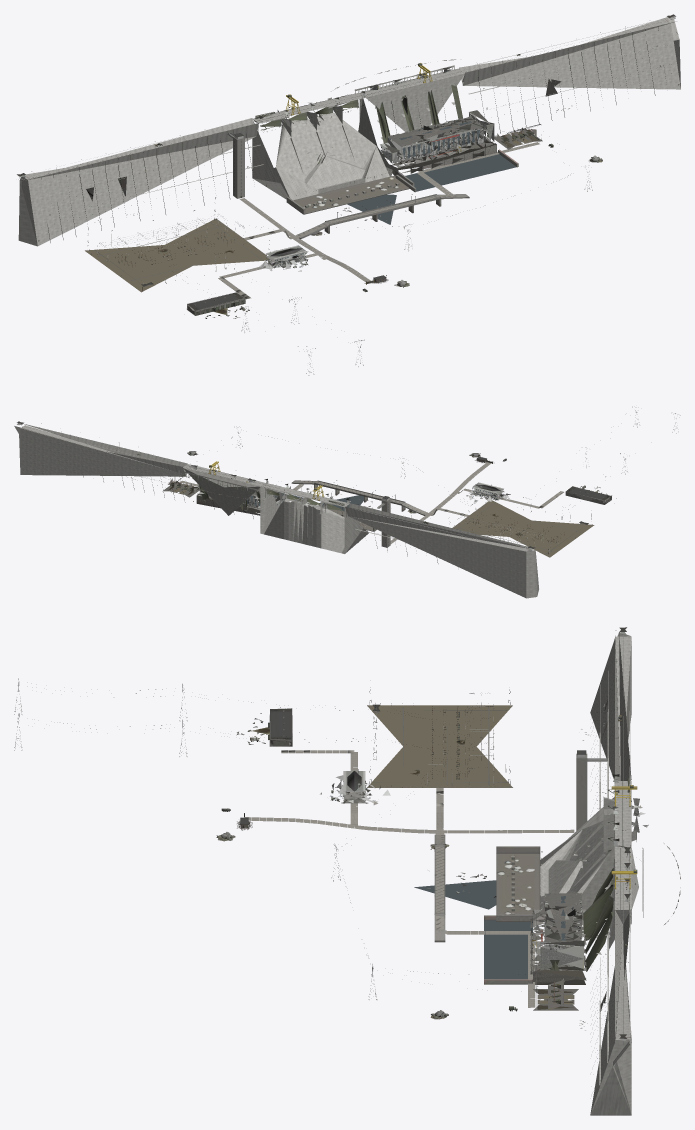
Rendered from site_dam_w_lo.glb.
The picture shows the model from 3 angles, top to bottom: view 1: azimuth 30°, elevation 25°; view 2: azimuth 150°, elevation 25°; view 3: azimuth 270°, elevation 25°; orthographic projection. The views are drawn at different scales.
Visible parts, largest first — view 1: b_dam_w|tile_dam, b_dam_e|tile_dam, b_spill_ruin|tile_dam, deco|A_A, b_spill|tile_dam, b_power_ruin|A_B, b_oru|A_A, b_intake|tile_dam, b_oru_ruin|A_B, deco|tile_conc, b_power|A_A, deco|A_glassF (+6 smaller); view 2: b_dam_w|tile_dam, b_dam_e_ruin|tile_dam, b_spill_ruin|tile_dam, b_oru|A_A, b_intake|tile_dam, b_oru_ruin|A_B, b_spill|tile_dam, deco|A_A, deco|tile_conc, b_dam_e|tile_dam, b_power_ruin|A_B, b_box|A_A (+2 smaller); view 3: deco|A_A, b_oru|A_A, b_oru_ruin|A_B, b_dam_w|tile_dam, deco|tile_conc, b_spill|tile_dam, b_power_ruin|A_B, b_dam_e_ruin|tile_dam, b_spill_ruin|tile_dam, b_dam_e|tile_dam, deco|A_glassF, b_intake|A_A (+5 smaller).
Boxes of the visible parts, x1,y1,x2,y2 form: b_dam_w|tile_dam: (18, 118, 263, 246); b_dam_e|tile_dam: (459, 17, 680, 104); b_spill_ruin|tile_dam: (254, 93, 406, 227); deco|A_A: (155, 54, 592, 375); b_spill|tile_dam: (252, 92, 392, 199); b_power_ruin|A_B: (380, 110, 496, 175); b_oru|A_A: (85, 197, 269, 292); b_intake|tile_dam: (354, 65, 464, 131); b_oru_ruin|A_B: (97, 210, 270, 286); deco|tile_conc: (218, 142, 539, 299); b_power|A_A: (384, 110, 493, 174); deco|A_glassF: (160, 76, 516, 266); b_dam_w|tile_dam: (345, 503, 538, 598); b_dam_e_ruin|tile_dam: (14, 423, 187, 480); b_spill_ruin|tile_dam: (263, 484, 366, 553); b_oru|A_A: (454, 484, 594, 557); b_intake|tile_dam: (178, 464, 264, 515); b_oru_ruin|A_B: (452, 497, 588, 543); b_spill|tile_dam: (260, 483, 368, 553); deco|A_A: (137, 410, 678, 547); deco|tile_conc: (180, 462, 563, 543); b_dam_e|tile_dam: (19, 426, 188, 482); b_power_ruin|A_B: (196, 484, 285, 515); b_box|A_A: (565, 486, 611, 504); deco|A_A: (14, 678, 637, 1011); b_oru|A_A: (367, 687, 512, 787); b_oru_ruin|A_B: (367, 693, 512, 787); b_dam_w|tile_dam: (590, 632, 631, 809); deco|tile_conc: (244, 750, 574, 1007); b_spill|tile_dam: (541, 780, 639, 924); b_power_ruin|A_B: (530, 893, 586, 984); b_dam_e_ruin|tile_dam: (579, 910, 631, 1115); b_spill_ruin|tile_dam: (428, 781, 639, 909); b_dam_e|tile_dam: (590, 909, 631, 1114); deco|A_glassF: (256, 717, 620, 1009); b_intake|A_A: (583, 843, 680, 971).
Bounding box in the file's own units: 800 × 86.25 × 546.
56 materials, 40 textured.
